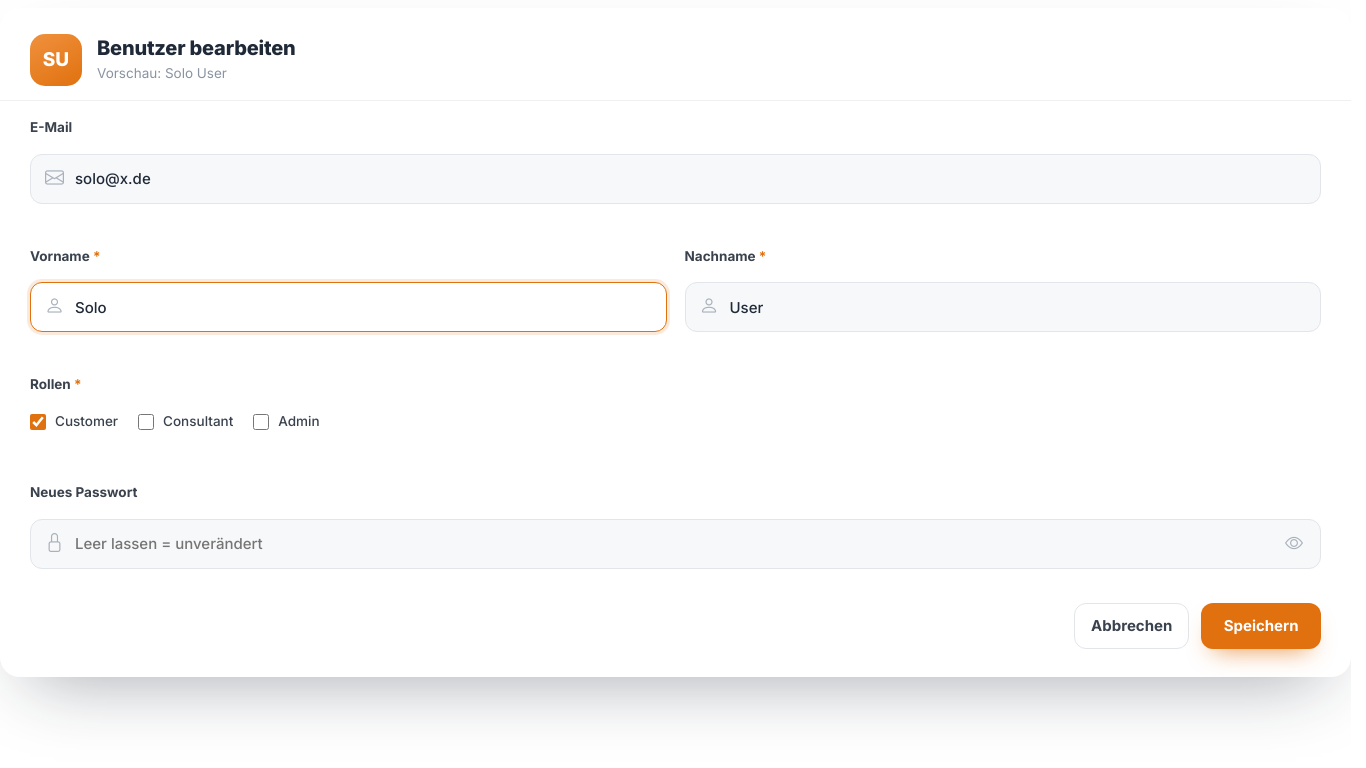
Test: PortalUserForm › Bearbeiten (users/:id) › Given alle Rollen abgewählt, When Speichern, Then kein PUT
Expected: the field showing "Solo" below "Vorname" is shown, [30, 282, 666, 332]
Step 1. Click the checkbox labelled "Customer" → click(38, 422), box [30, 414, 46, 430]
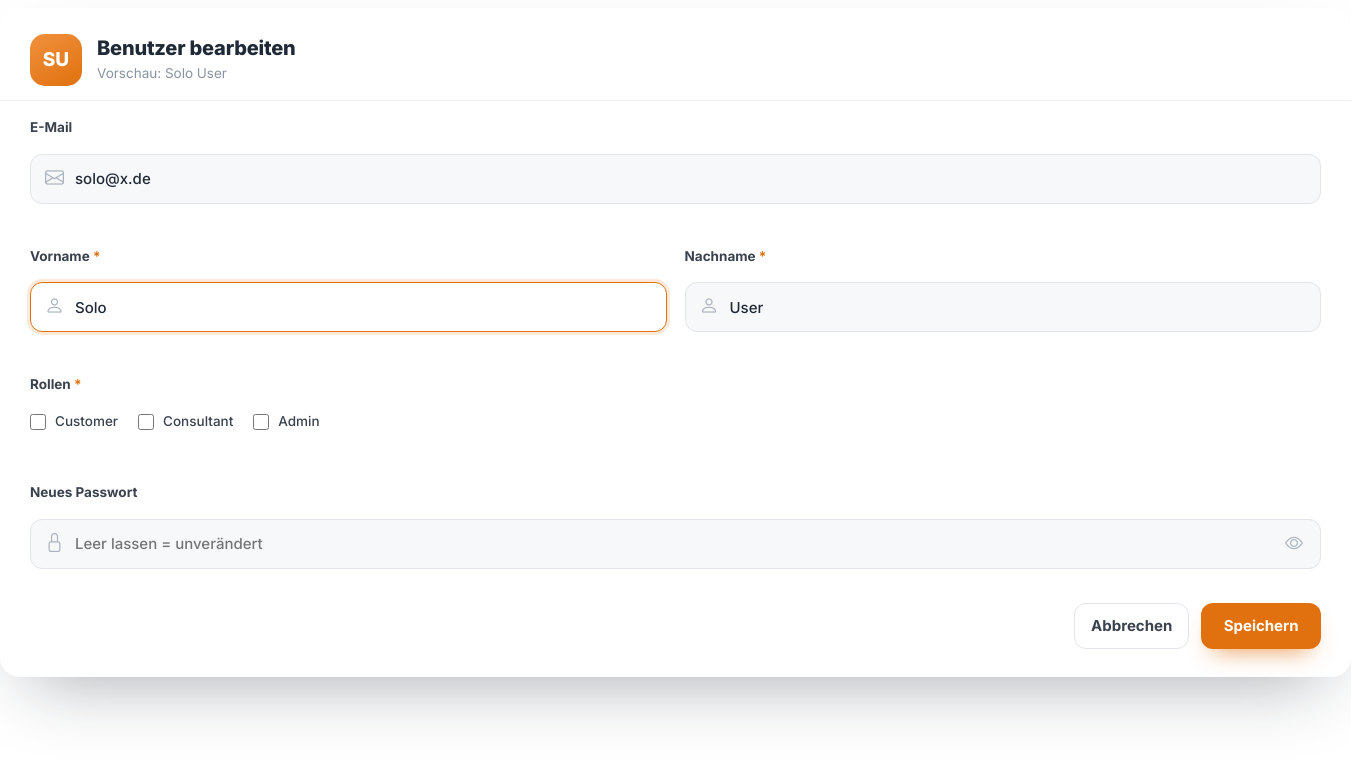
Step 2. Click the button "Speichern" → click(1261, 626), box [1201, 603, 1321, 649]
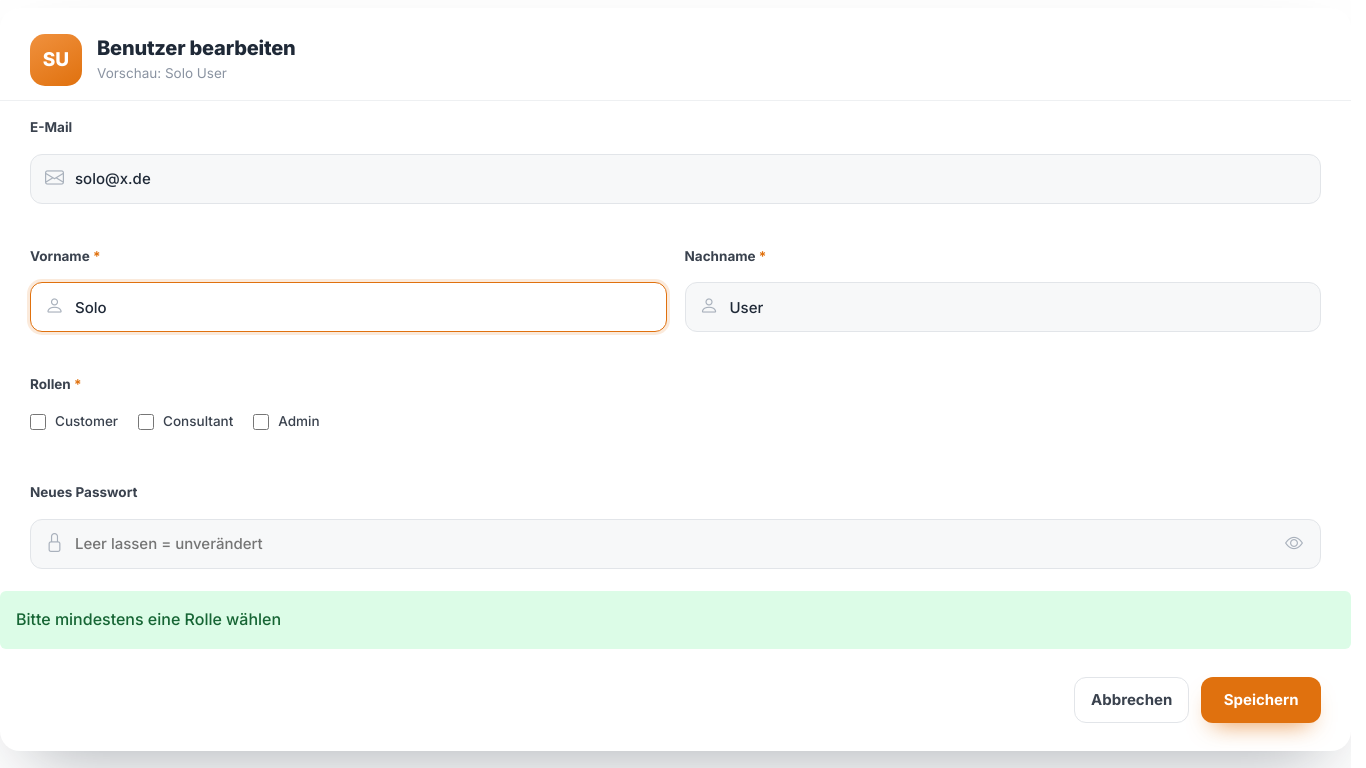
Expected: the text "Bitte mindestens eine Rolle wählen" is shown, [0, 591, 1351, 649]
